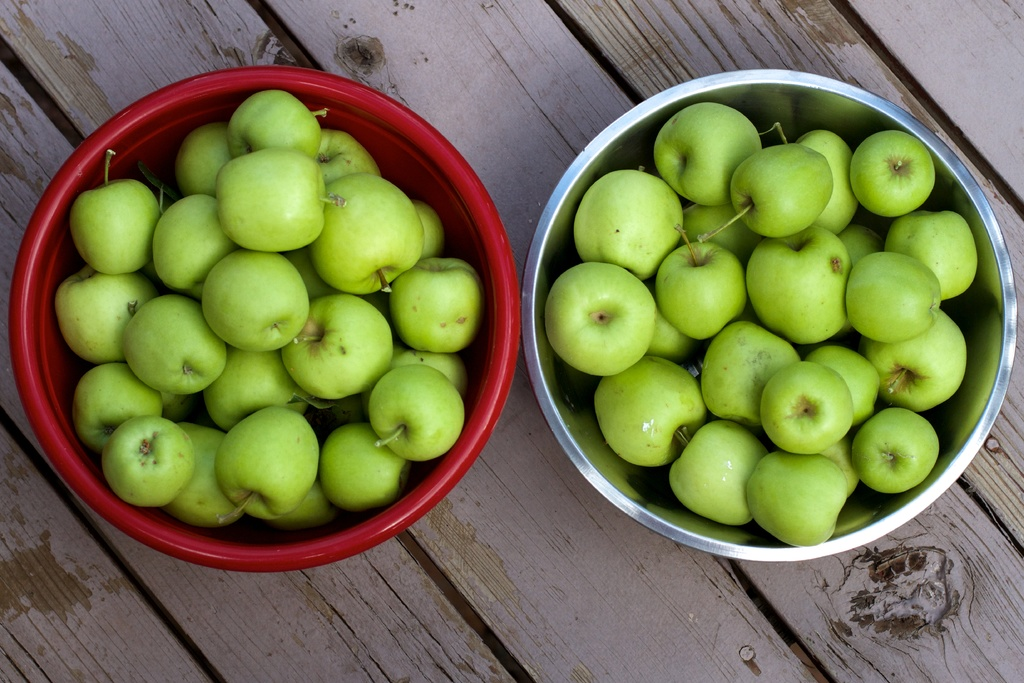Apple: (53, 91, 491, 527), (546, 107, 982, 545), (769, 354, 876, 454)
